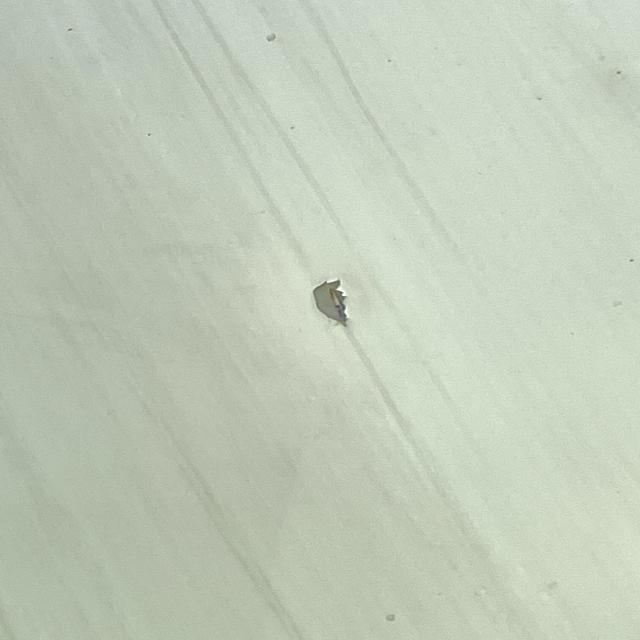crack: (308, 276, 360, 332)
